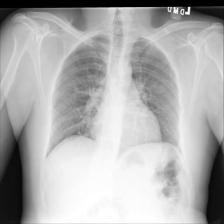normal: (46, 31, 185, 160)
